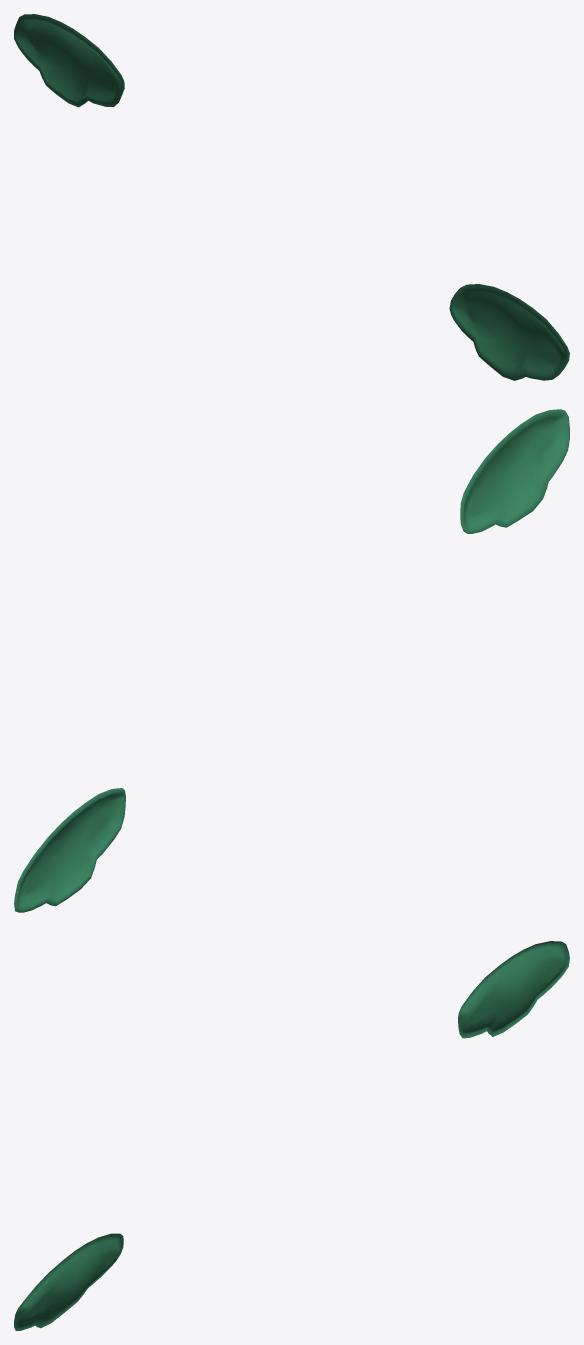
File: L_cavity.glb
The picture shows the model from 3 angles, top to bottom: view 1: azimuth 30°, elevation 25°; view 2: azimuth 150°, elevation 25°; view 3: azimuth 330°, elevation 25°; orthographic projection. The views are drawn at different scales.
Visible parts, largest first — view 1: L_cavity; view 2: L_cavity; view 3: L_cavity.
Boxes of the visible parts, left/top/right/bottom form: L_cavity: left=14, top=14, right=569, bottom=380; L_cavity: left=14, top=409, right=569, bottom=912; L_cavity: left=14, top=941, right=569, bottom=1330.
Size of the model in its own units: 0.0371 by 0.1523 by 1.32.
